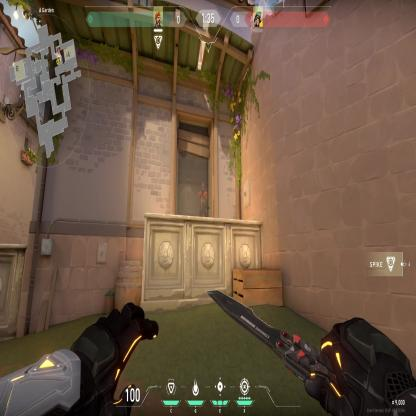enemy: (197, 181, 208, 217)
